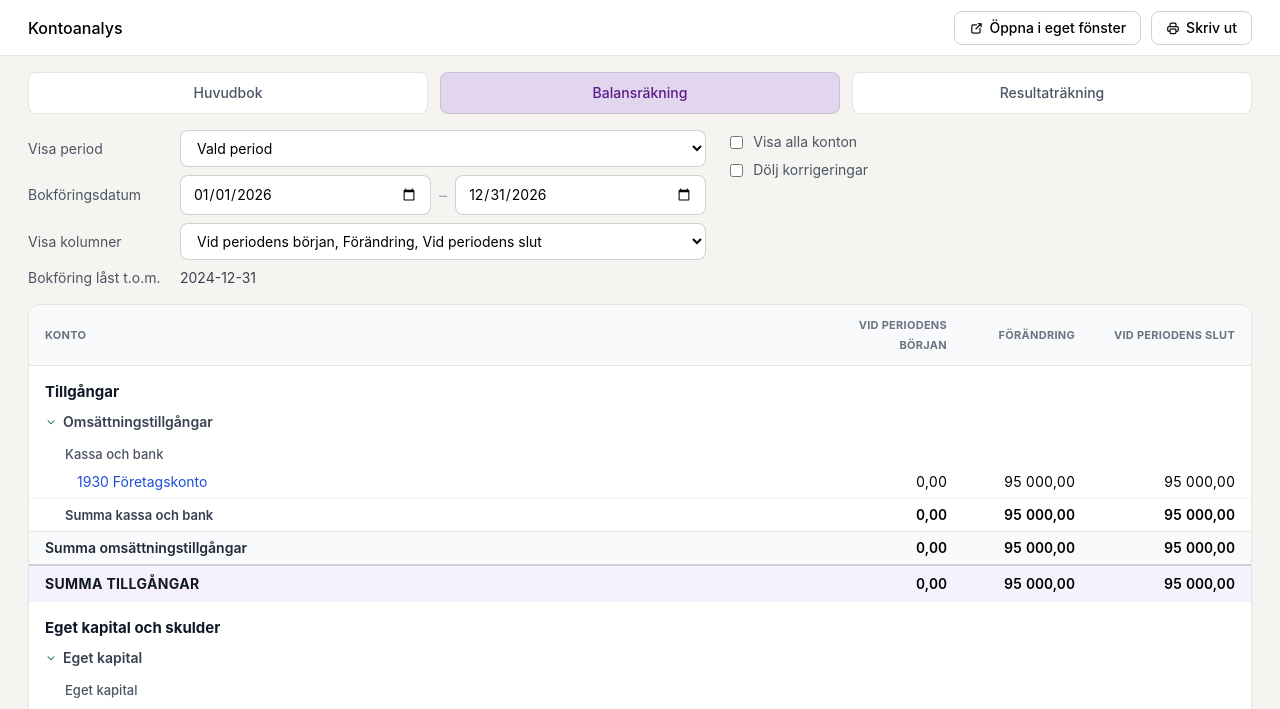
it: Kontoanalys – Balansräkning › klick på konto öppnar Huvudbok filtrerat på samma konto (ingen route-navigation)
Expected: the text "Tillgångar" is shown, 29,366 -> 1251,406
Step 1. Click the button "1930 Företagskonto" → (142, 482), box 77,472 -> 208,492
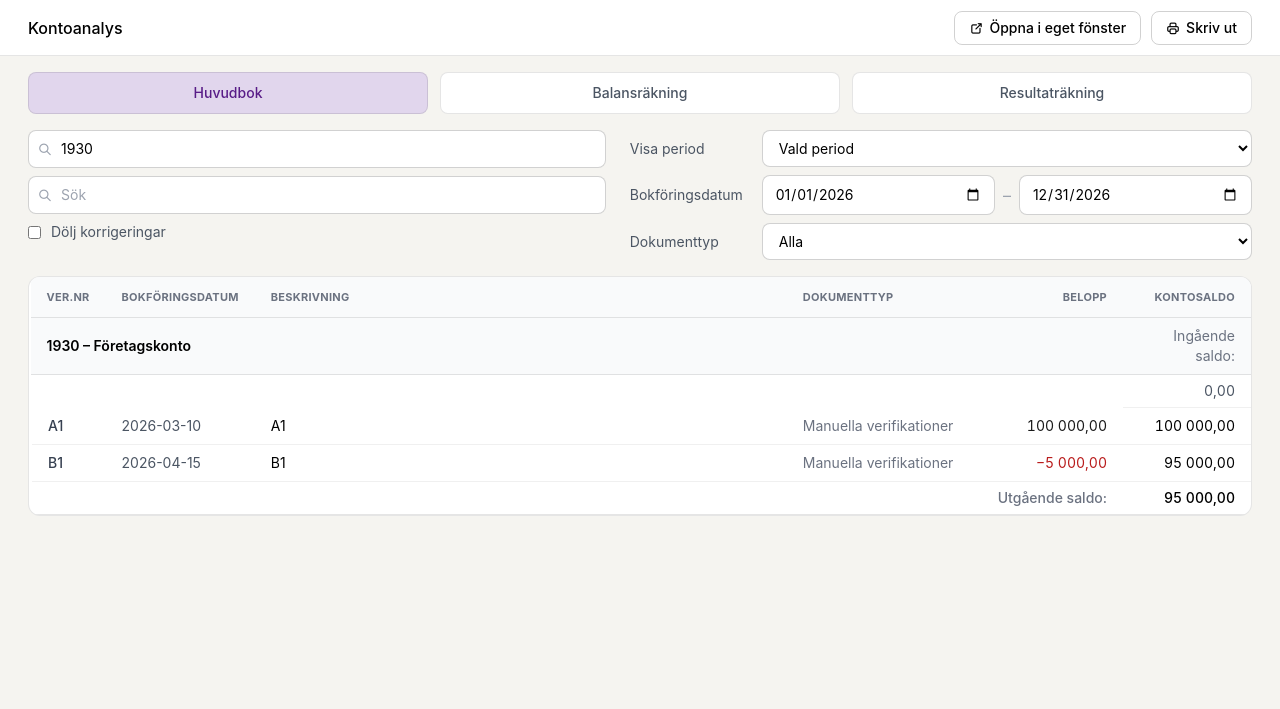
Now the field with placeholder "Sök konto t.ex. 1510, 3050-3053" holds "1930", box 28,130 -> 606,168
